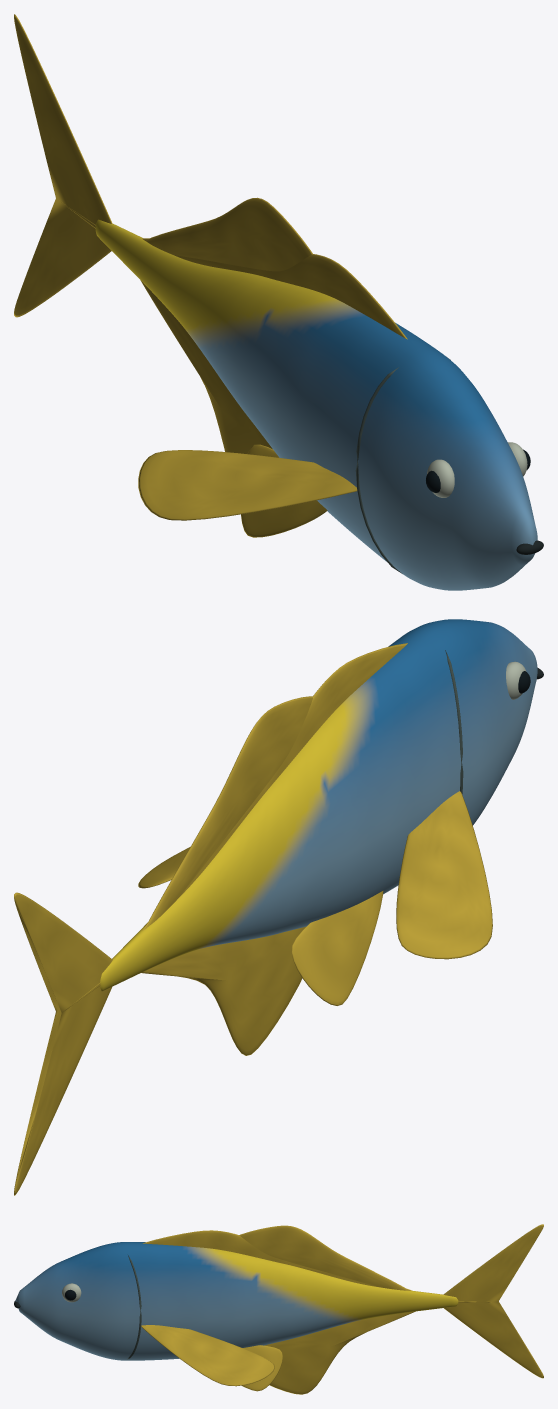
File: yellowback_fusilier.glb
3 views of the same model, one above another, from view 1: azimuth 30°, elevation 25°; view 2: azimuth 150°, elevation 25°; view 3: azimuth 270°, elevation 25° (orthographic). The views are drawn at different scales.
Visible parts, largest first — view 1: Kuroshio.yellowback_fusilier.Body; view 2: Kuroshio.yellowback_fusilier.Body; view 3: Kuroshio.yellowback_fusilier.Body.
Boxes of the visible parts, x1,y1,x2,y2 form: Kuroshio.yellowback_fusilier.Body: (14,14,543,590); Kuroshio.yellowback_fusilier.Body: (14,619,543,1195); Kuroshio.yellowback_fusilier.Body: (14,1224,543,1394).
Bounding box in the file's own units: 0.1113 × 0.108 × 0.3044.
